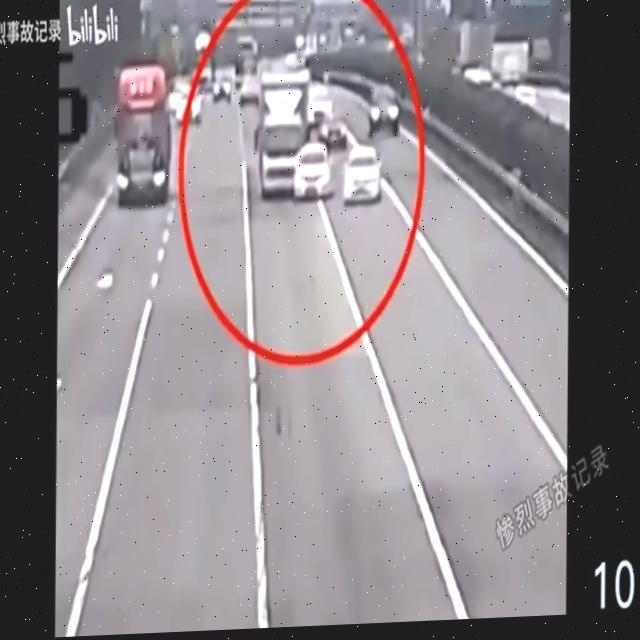multiple_accident: (250, 49, 339, 220)
normal: (91, 64, 237, 204), (330, 143, 400, 247)
